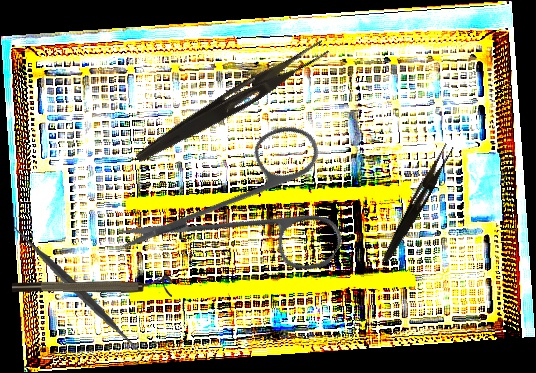Dressing Forceps: (132, 32, 331, 173), (380, 140, 455, 267)
Fixation Ring: (11, 272, 173, 298)
Iris Scissors: (114, 75, 383, 346)
Spatula Surgical: (3, 218, 152, 363)
